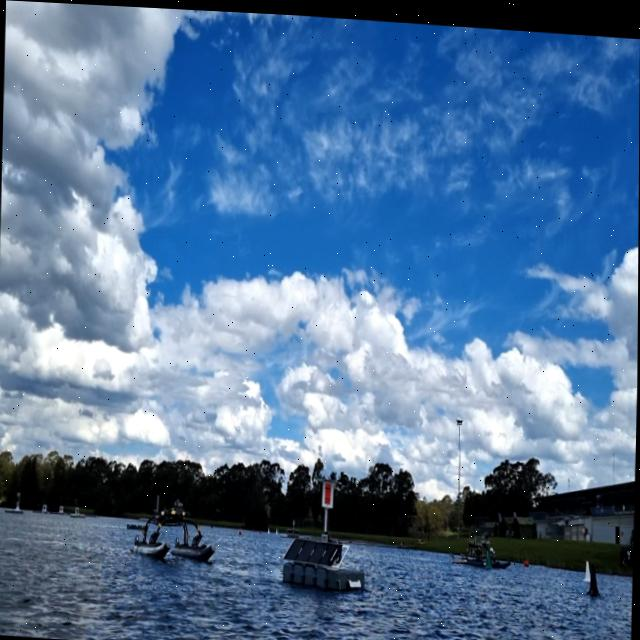led: (324, 477, 332, 503)
